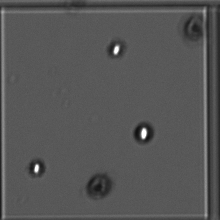Dead Cell: (82, 170, 116, 204), (180, 14, 207, 41)
Living Cell: (131, 119, 159, 147), (26, 156, 50, 180), (105, 36, 129, 60)
